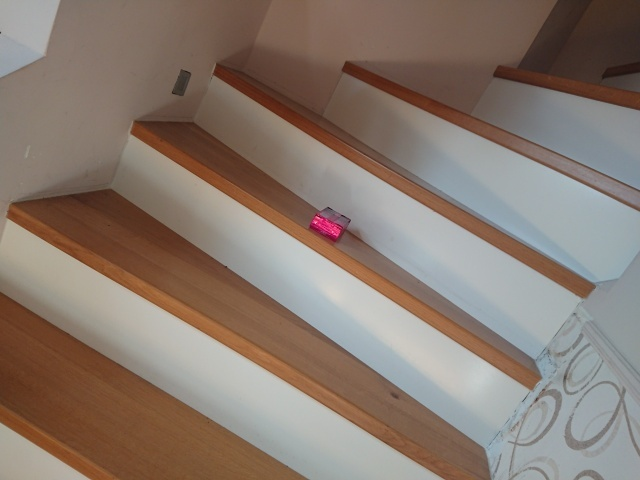Barcaffe Classic Original 225g: (308, 205, 353, 244)
